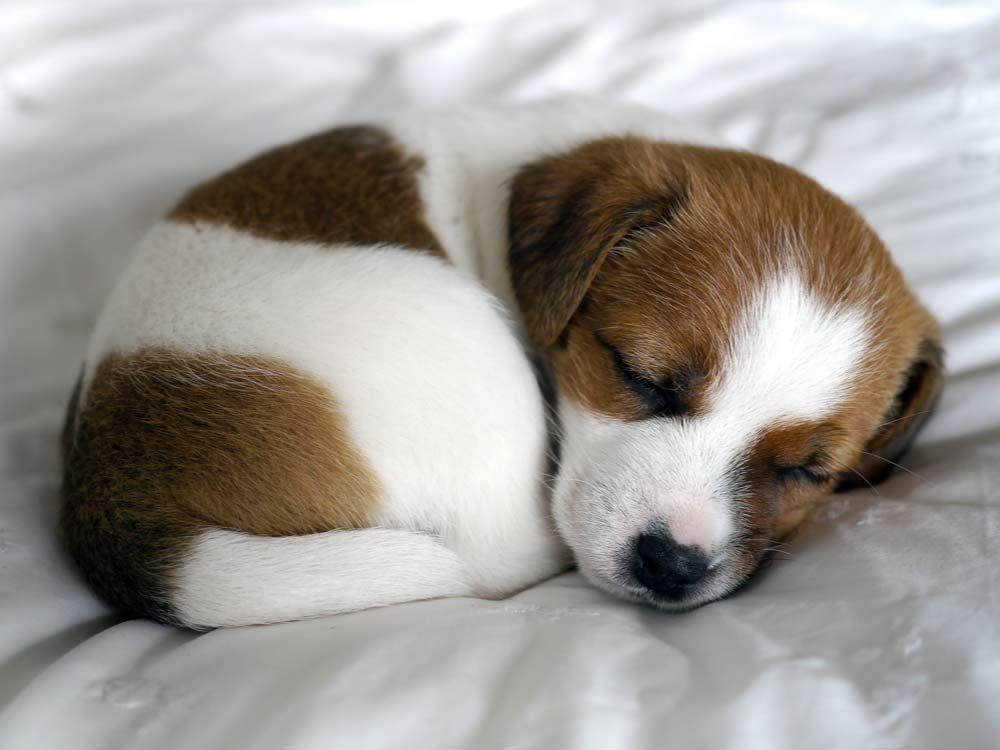puppy-dog: (48, 109, 949, 636)
